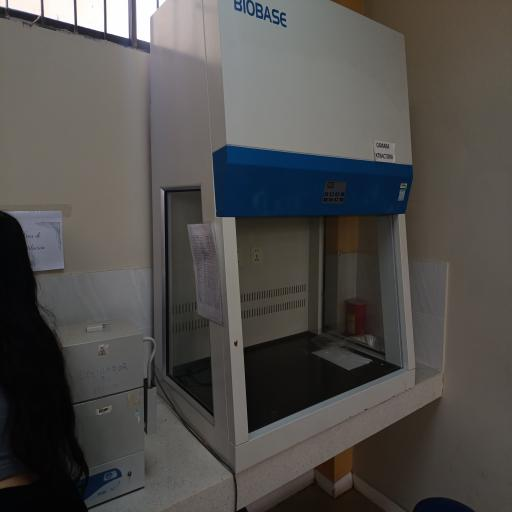Camara_Extractora_Biobase: (140, 0, 428, 481)
